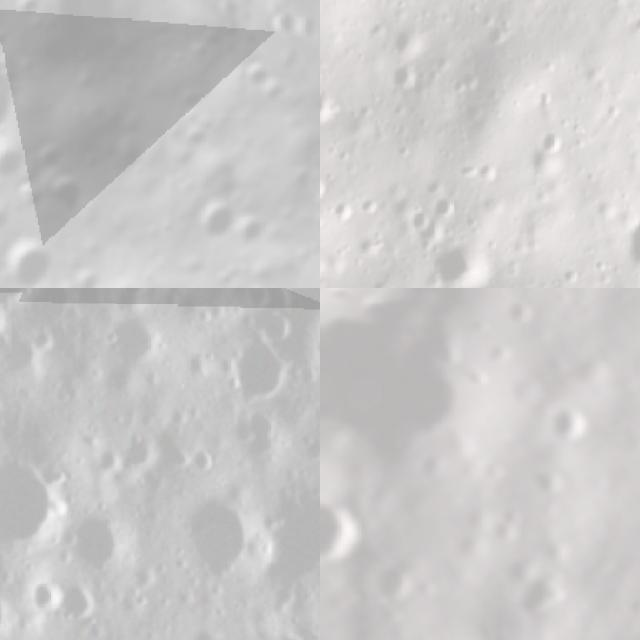crater: (332, 314, 530, 524), (0, 0, 57, 203), (173, 478, 278, 586), (240, 474, 320, 593), (518, 380, 611, 467), (0, 446, 67, 560), (54, 495, 138, 584), (219, 330, 303, 415), (351, 549, 432, 630), (320, 482, 380, 590), (497, 562, 571, 637), (0, 227, 71, 288), (98, 308, 164, 373), (40, 159, 106, 222), (425, 234, 494, 288), (0, 313, 51, 385), (49, 569, 105, 626), (111, 430, 163, 483), (187, 191, 238, 244), (14, 288, 80, 328), (495, 288, 547, 338), (252, 299, 297, 351), (23, 568, 66, 619), (392, 20, 432, 59), (439, 621, 518, 640), (536, 121, 572, 158), (32, 137, 67, 175), (385, 60, 421, 96), (96, 288, 155, 308), (428, 191, 462, 224), (404, 206, 436, 238), (0, 581, 17, 640), (619, 214, 640, 261), (330, 196, 359, 228), (320, 85, 342, 127), (0, 290, 15, 344), (320, 243, 335, 281)
